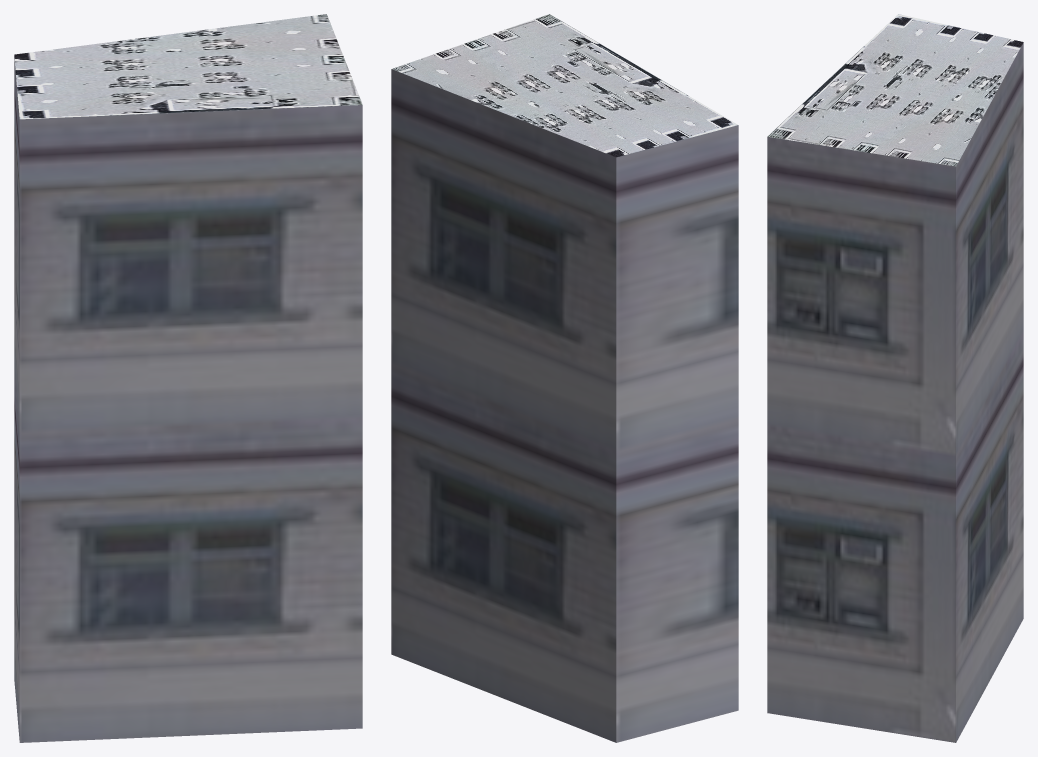
Rendered from ResTex__531.fbx.
The picture shows the model from 3 angles, left to right: view 1: azimuth 30°, elevation 25°; view 2: azimuth 150°, elevation 25°; view 3: azimuth 270°, elevation 25°; orthographic projection. The views are drawn at different scales.
Visible parts, largest first — view 1: CityEngineMaterial_1_m, CityEngineMaterial_m; view 2: CityEngineMaterial_1_m, CityEngineMaterial_m; view 3: CityEngineMaterial_1_m, CityEngineMaterial_m.
Part boxes in pixels (bbox=[...]): CityEngineMaterial_1_m: bbox=[14, 58, 362, 742]; CityEngineMaterial_m: bbox=[14, 14, 362, 119]; CityEngineMaterial_1_m: bbox=[391, 69, 738, 742]; CityEngineMaterial_m: bbox=[392, 14, 737, 157]; CityEngineMaterial_1_m: bbox=[767, 43, 1023, 742]; CityEngineMaterial_m: bbox=[767, 14, 1023, 166].
Size of the model in its own units: 3.41 by 6 by 2.42.
Materials: 2 (2 with a texture image).
